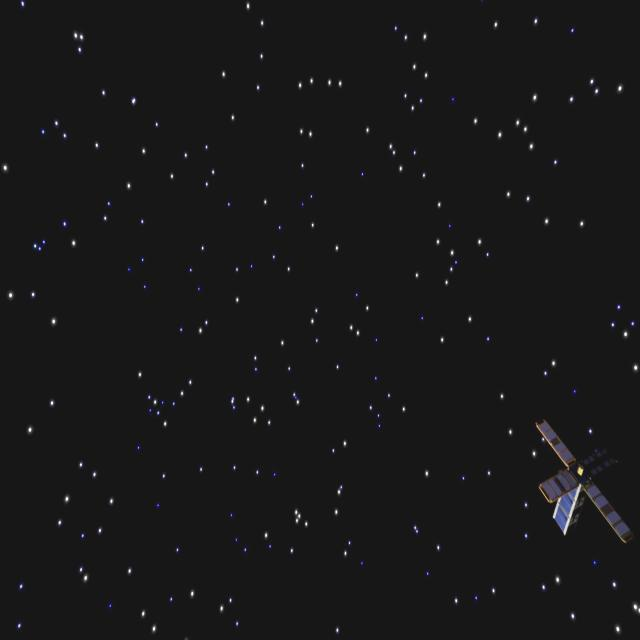medium_debris: (519, 419, 634, 549)
